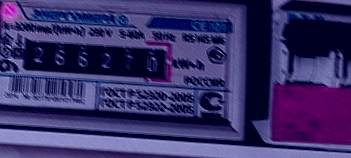0: (145, 53, 158, 71)
2: (30, 43, 44, 62), (99, 49, 111, 68)
6: (53, 46, 66, 65), (76, 48, 89, 67)
7: (122, 51, 134, 69)
screen: (12, 27, 178, 87)
